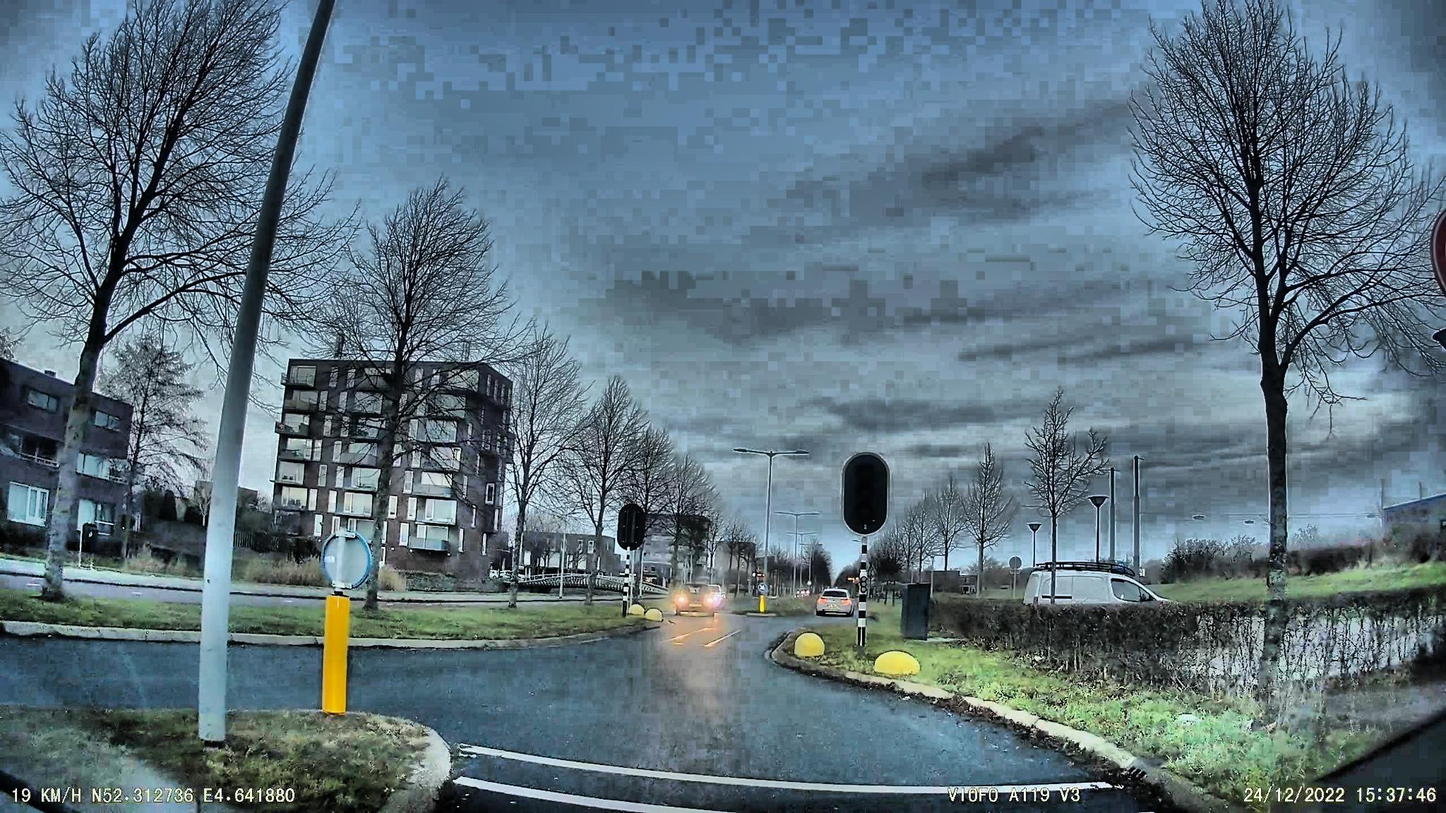Roads: (346, 606, 1207, 813)
